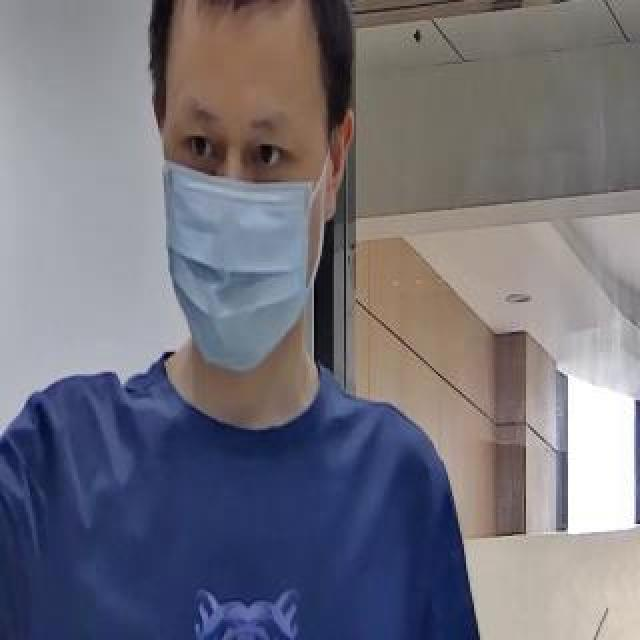Guns: (0, 0, 10, 206)
